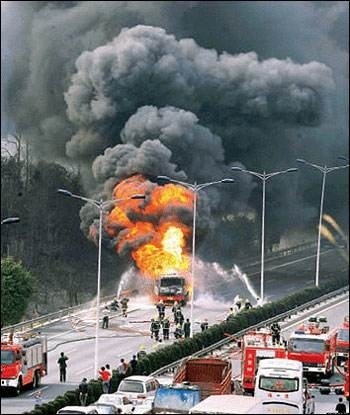fire: (110, 175, 192, 288)
